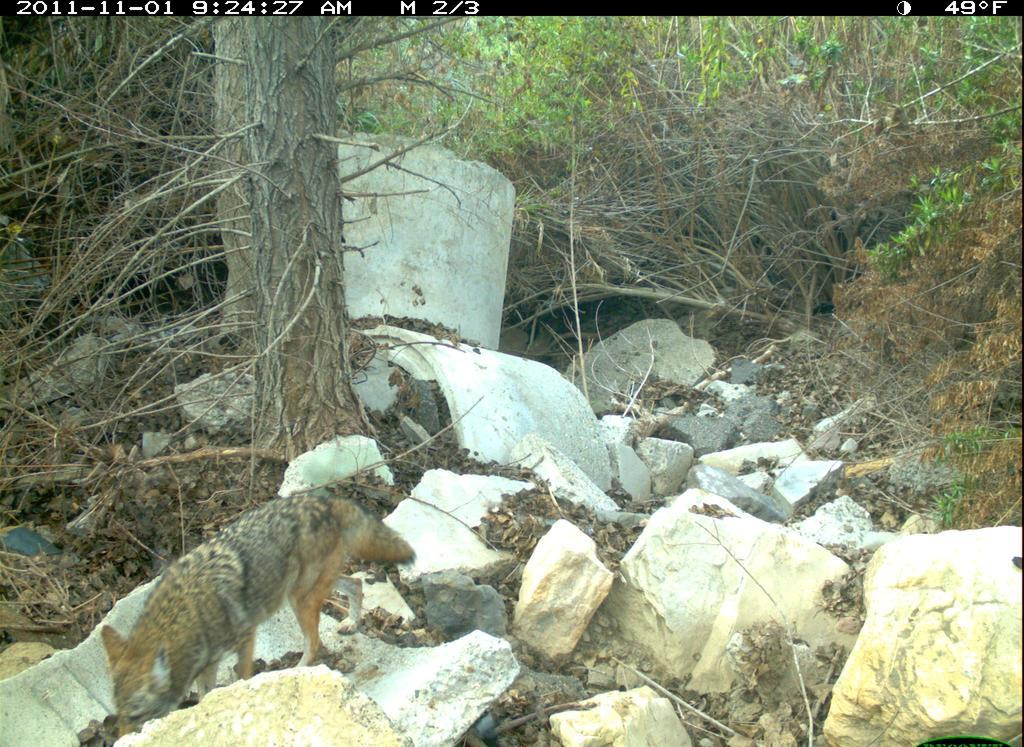coyote: (90, 487, 424, 745)
